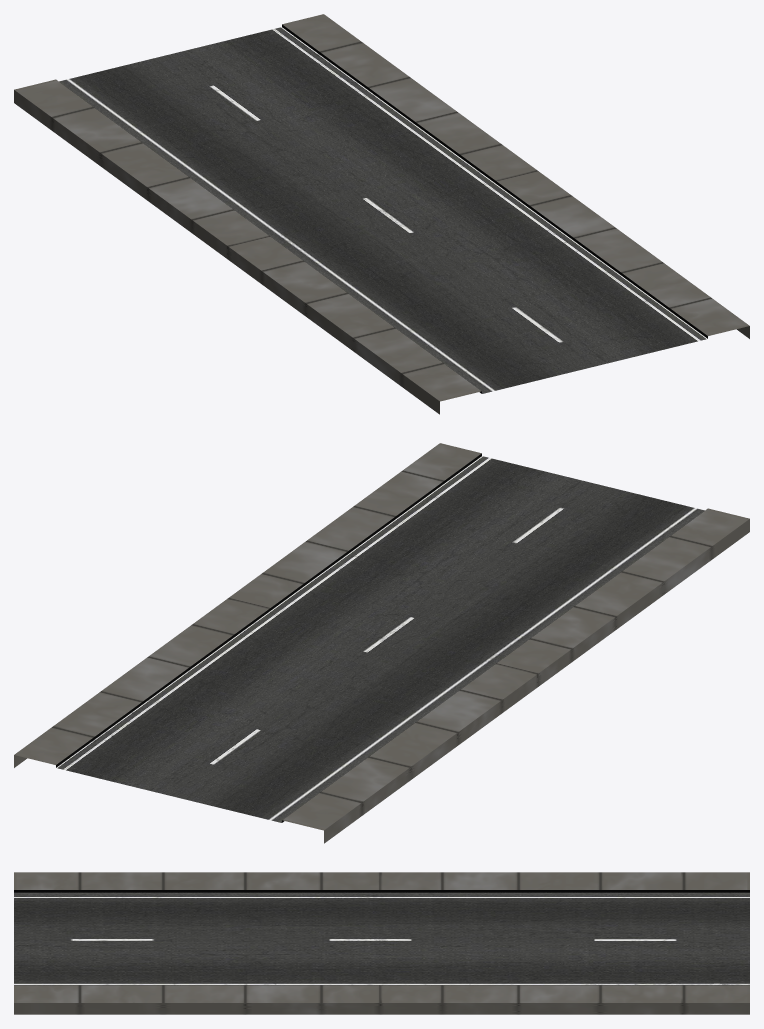
The model's file is Road.fbx.
The picture shows the model from 3 angles, top to bottom: view 1: azimuth 30°, elevation 25°; view 2: azimuth 150°, elevation 25°; view 3: azimuth 270°, elevation 25°; orthographic projection. The views are drawn at different scales.
Visible parts, largest first — view 1: Cube.001, Cube.017; view 2: Cube.001, Cube.017; view 3: Cube.001, Cube.017.
Boxes of the visible parts, <box> form: Cube.001: <box>59,27,707,393</box>; Cube.017: <box>14,14,749,414</box>; Cube.001: <box>56,456,704,822</box>; Cube.017: <box>14,443,749,843</box>; Cube.001: <box>14,892,749,985</box>; Cube.017: <box>14,872,749,1014</box>.
Bounding box in the file's own units: 3756 × 154 × 8945.
